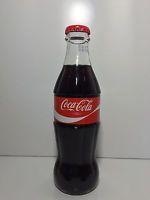coke: (54, 26, 100, 193)
